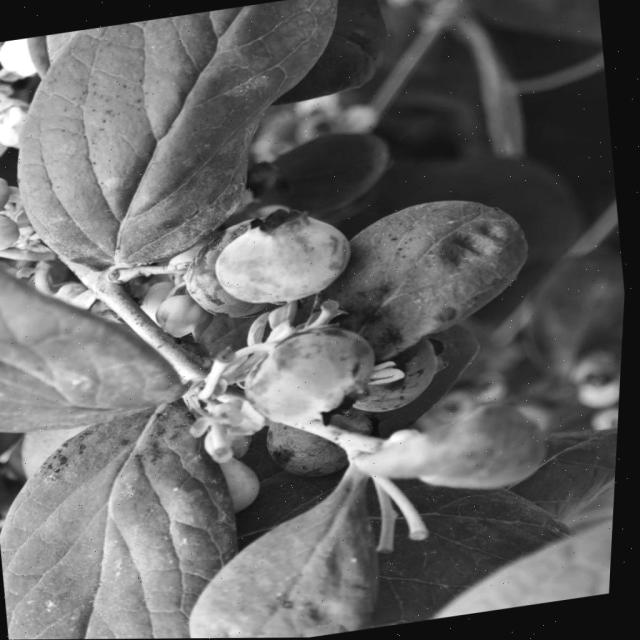RipeBlueBerry: (240, 320, 390, 432), (352, 332, 456, 417), (266, 415, 385, 486)
Semi-RipeBlueBerry: (212, 207, 358, 311)
